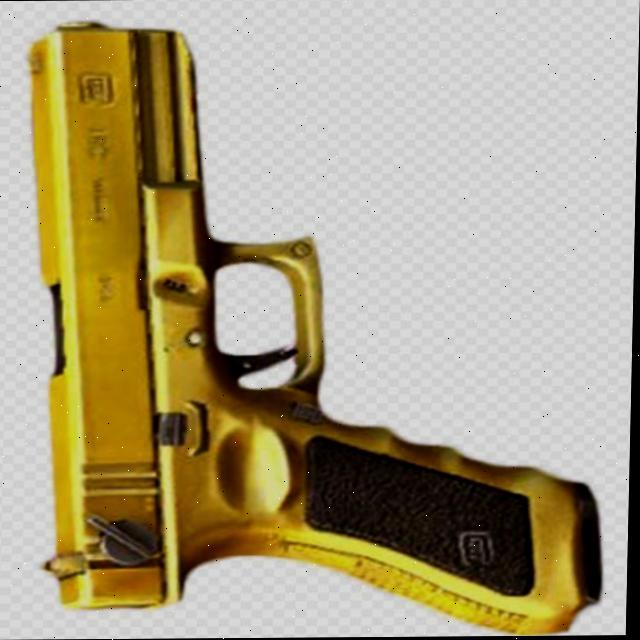gun: (18, 15, 613, 638)
